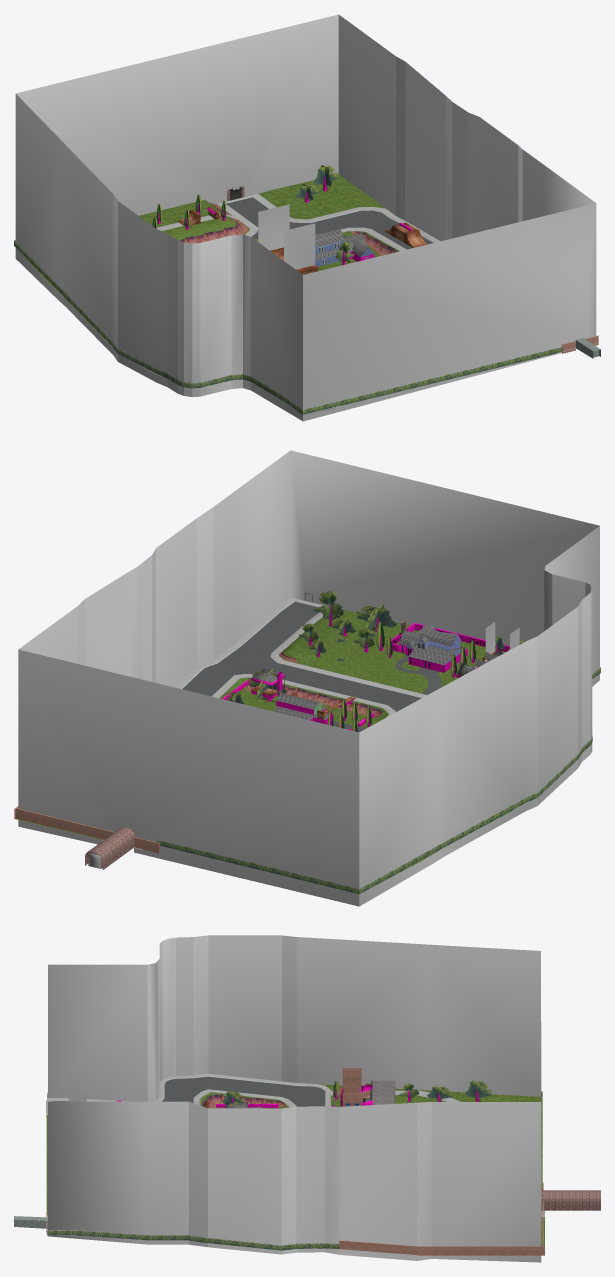
Rendered from Street.FBX.
3 views of the same model, one above another, from view 1: azimuth 30°, elevation 25°; view 2: azimuth 150°, elevation 25°; view 3: azimuth 270°, elevation 25° (orthographic). The views are drawn at different scales.
Visible parts, largest first — view 1: Area Collide, Corner_Land, Box230, Path_pond_01, Bushes_02, house02, Road_path_28, Bushes_03, Path_road104, Road_path_20, Bushes_05, Object31; view 2: Area Collide, Road_path_34, House_01, house01, Path_road100, Path_road101, Bushes_06, Road-path91, Exit_1, Bushes_05, Object45, Object01 (+2 smaller); view 3: Area Collide, Box03, Bushes_01, Path_pond_01, Exit_1, Road_path_08, Path_road96, Hall, Path_road108, Path_road105, path_01, part07.
Part boxes in pixels (x1,y1,x2,y2): Area Collide: [15, 14, 596, 421]; Corner_Land: [259, 174, 385, 219]; Box230: [258, 204, 318, 274]; Path_pond_01: [16, 200, 249, 359]; Bushes_02: [303, 346, 562, 414]; house02: [315, 228, 374, 266]; Road_path_28: [221, 194, 404, 235]; Bushes_03: [156, 368, 302, 414]; Path_road104: [334, 210, 397, 229]; Road_path_20: [318, 228, 399, 270]; Bushes_05: [14, 240, 112, 346]; Object31: [384, 222, 426, 247]; Area Collide: [18, 450, 599, 906]; Road_path_34: [270, 610, 505, 697]; House_01: [212, 674, 395, 732]; house01: [399, 621, 467, 672]; Path_road100: [268, 663, 402, 705]; Path_road101: [242, 601, 319, 652]; Bushes_06: [156, 840, 359, 894]; Road-path91: [204, 646, 276, 675]; Exit_1: [85, 827, 135, 869]; Bushes_05: [359, 797, 526, 893]; Object45: [273, 693, 333, 724]; Object01: [15, 808, 101, 839]; Area Collide: [48, 935, 541, 1262]; Box03: [339, 1240, 544, 1255]; Bushes_01: [47, 1230, 339, 1250]; Path_pond_01: [250, 1078, 542, 1190]; Exit_1: [541, 1190, 600, 1210]; Road_path_08: [193, 1089, 296, 1108]; Path_road96: [208, 1076, 281, 1096]; Hall: [339, 1080, 395, 1106]; Path_road108: [164, 1076, 208, 1097]; Path_road105: [281, 1084, 324, 1105]; path_01: [47, 1073, 250, 1101]; part07: [342, 1068, 361, 1092].
Bounding box in the file's own units: 57225 × 25279 × 83615.
